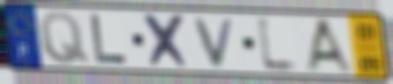A: (303, 17, 358, 77)
L: (255, 13, 304, 77), (89, 13, 131, 67)
Q: (37, 10, 92, 67)
V: (192, 17, 238, 69)
X: (140, 12, 194, 71)
